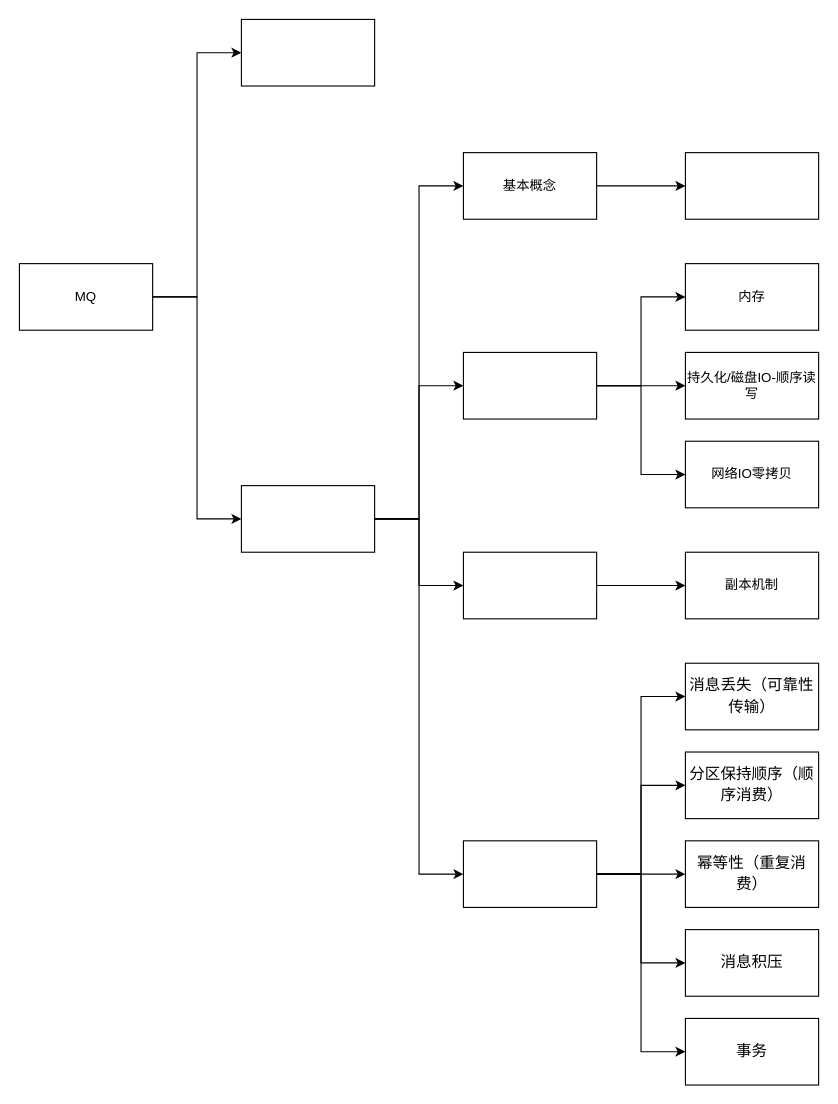
This 838x1104 diagram has some shape labels left out. Here are the shapes that lost their labels. From the top down, the centre of each, then its label:
At point 751,185: "Kafka拓扑结构及相关概念".
At point 529,385: "高性能".
At point 307,518: "Kafka".
At point 529,585: "高可用".
At point 529,873: "高一致".
